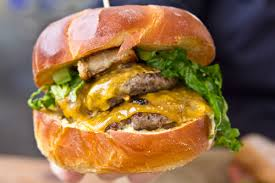hamburger: (30, 4, 222, 176)
